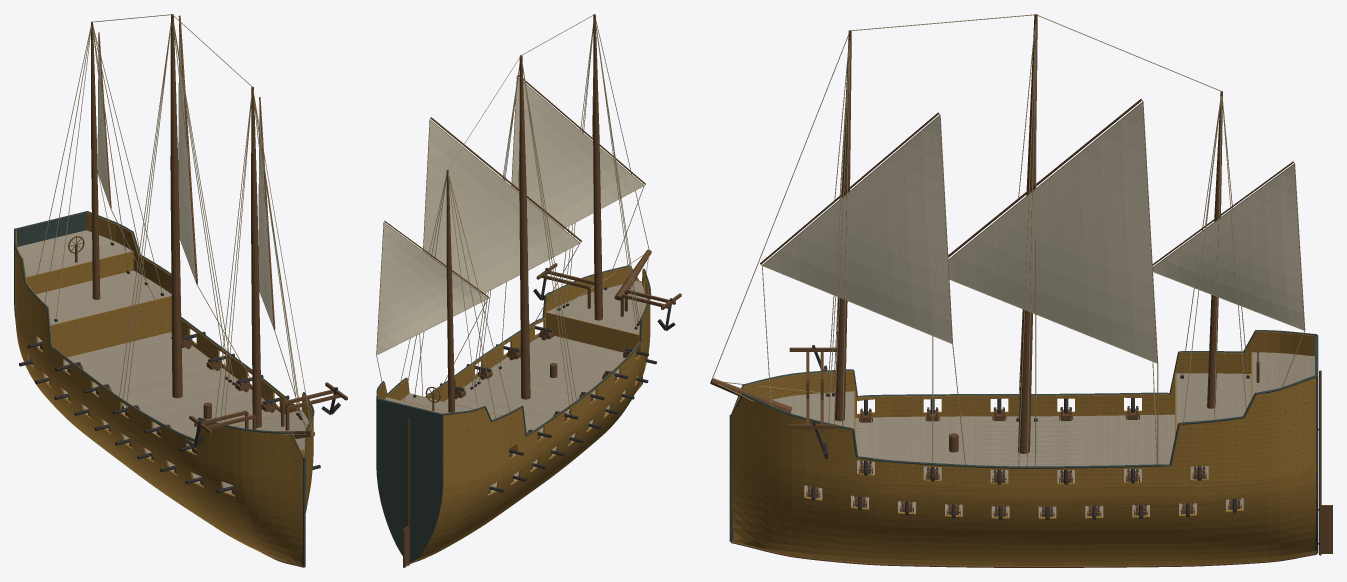
3 views of the same model, side by side, from view 1: azimuth 30°, elevation 25°; view 2: azimuth 150°, elevation 25°; view 3: azimuth 270°, elevation 25° (orthographic). The views are drawn at different scales.
Parts seen in each view (by area): view 1: lod2_hull_shell_starboard, lod2_main_deck, lod2_castle_bulkhead_1_1, lod2_hull_shell_port, lod2_castle_deck_1, lod2_main, lod2_castle_deck_0, lod2_fore, lod2_castle_bulkhead_0_1, lod2_main_lateen_00, lod2_mizzen, lod2_stern_closure (+16 smaller); view 2: lod2_hull_shell_starboard, lod2_main_lateen_00, lod2_fore_lateen_00, lod2_stern_closure, lod2_main_deck, lod2_mizzen_lateen_00, lod2_hull_shell_port, lod2_main, lod2_castle_deck_2, lod2_fore, lod2_castle_bulkhead_2_minus_1, lod2_mizzen (+9 smaller); view 3: lod2_hull_shell_port, lod2_main_lateen_00, lod2_fore_lateen_00, lod2_main_deck, lod2_mizzen_lateen_00, lod2_hull_shell_starboard, lod2_castle_deck_1, lod2_main, lod2_fore, lod2_castle_deck_0, lod2_gunwale_port, lod2_mizzen (+5 smaller).
Part boxes in pixels (<box>): lod2_hull_shell_starboard: <box>15,230,303,565</box>; lod2_main_deck: <box>38,332,280,452</box>; lod2_castle_bulkhead_1_1: <box>50,296,171,357</box>; lod2_hull_shell_port: <box>86,212,313,512</box>; lod2_castle_deck_1: <box>36,270,171,325</box>; lod2_main: <box>170,14,182,398</box>; lod2_castle_deck_0: <box>17,230,132,277</box>; lod2_fore: <box>251,87,261,427</box>; lod2_castle_bulkhead_0_1: <box>26,251,133,294</box>; lod2_main_lateen_00: <box>178,32,195,280</box>; lod2_mizzen: <box>91,21,100,299</box>; lod2_stern_closure: <box>14,211,86,364</box>; lod2_hull_shell_starboard: <box>412,269,650,561</box>; lod2_main_lateen_00: <box>423,120,579,293</box>; lod2_fore_lateen_00: <box>512,77,643,228</box>; lod2_stern_closure: <box>376,398,443,562</box>; lod2_main_deck: <box>444,335,637,456</box>; lod2_mizzen_lateen_00: <box>377,223,486,354</box>; lod2_hull_shell_port: <box>378,266,639,401</box>; lod2_main: <box>519,55,530,399</box>; lod2_castle_deck_2: <box>547,281,647,334</box>; lod2_fore: <box>593,14,602,320</box>; lod2_castle_bulkhead_2_minus_1: <box>546,312,639,355</box>; lod2_mizzen: <box>446,169,454,412</box>; lod2_hull_shell_port: <box>731,377,1316,566</box>; lod2_main_lateen_00: <box>948,103,1157,362</box>; lod2_fore_lateen_00: <box>763,116,952,342</box>; lod2_main_deck: <box>855,414,1208,482</box>; lod2_mizzen_lateen_00: <box>1153,164,1304,329</box>; lod2_hull_shell_starboard: <box>731,331,1314,417</box>; lod2_castle_deck_1: <box>1176,373,1251,430</box>; lod2_main: <box>1018,14,1037,453</box>; lod2_fore: <box>835,30,851,421</box>; lod2_castle_deck_0: <box>1252,352,1314,397</box>; lod2_gunwale_port: <box>731,375,1317,468</box>; lod2_mizzen: <box>1207,91,1222,408</box>.
Size of the model in its own units: 11.58 by 34.22 by 34.88.
7 materials, 7 textured.
